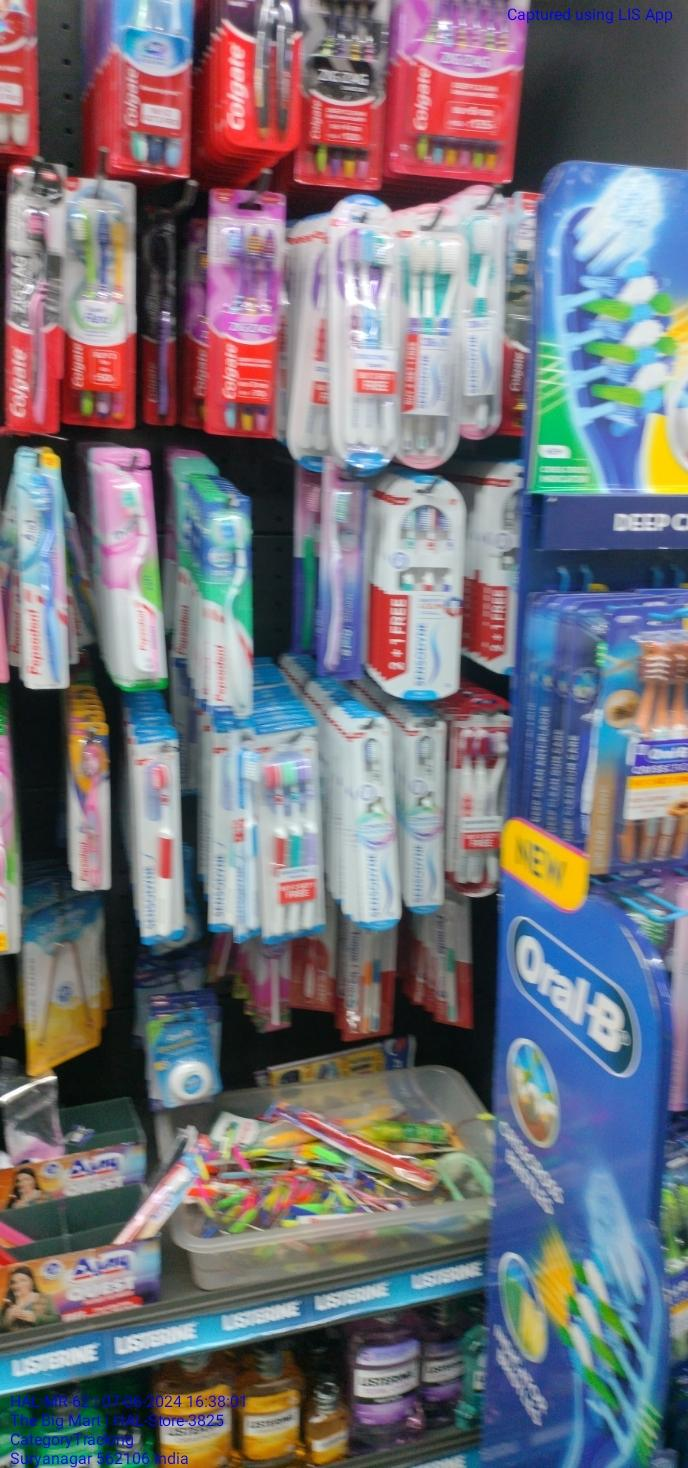13: (103, 444, 166, 684)
16: (381, 477, 463, 700)
5: (399, 206, 464, 465)
6: (325, 190, 394, 468)
8: (260, 731, 324, 935)
liquid soap: (300, 0, 378, 185)
